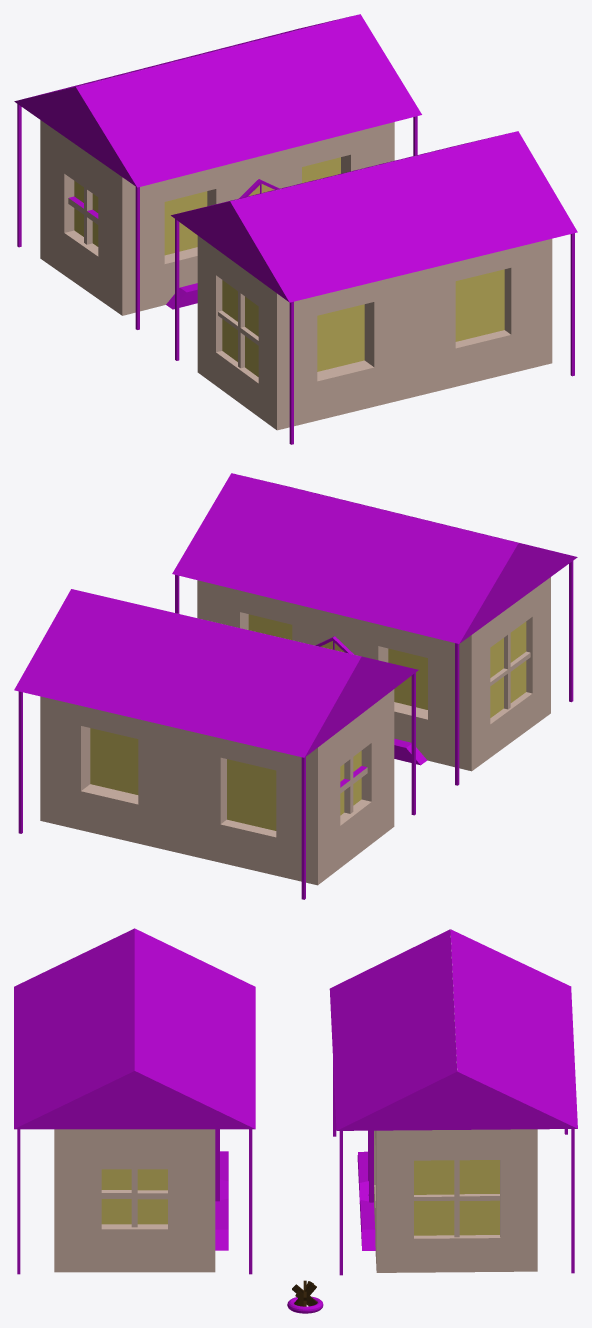
Rendered from Baracks.fbx.
3 views of the same model, one above another, from view 1: azimuth 30°, elevation 25°; view 2: azimuth 150°, elevation 25°; view 3: azimuth 270°, elevation 25° (orthographic).
Visible parts, largest first — view 1: Cube; view 2: Cube; view 3: Cube.
Part boxes in pixels (<box>): Cube: <box>14,14,577,444</box>; Cube: <box>14,473,577,899</box>; Cube: <box>14,928,577,1313</box>.
Bounding box in the file's own units: 132 × 71.35 × 175.
